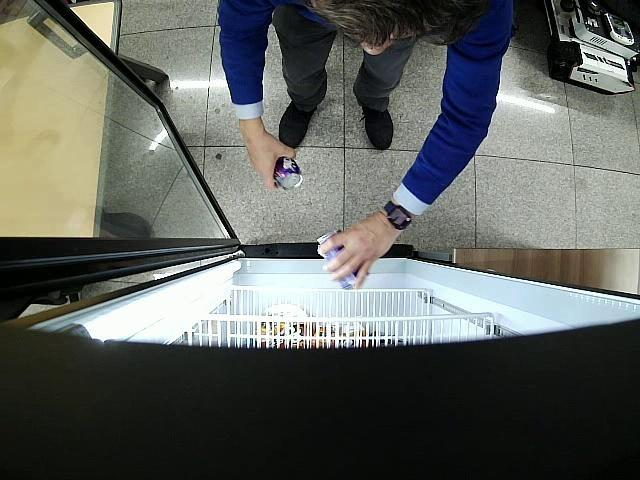14_welchsGrape: (316, 228, 358, 290), (274, 156, 304, 190)
